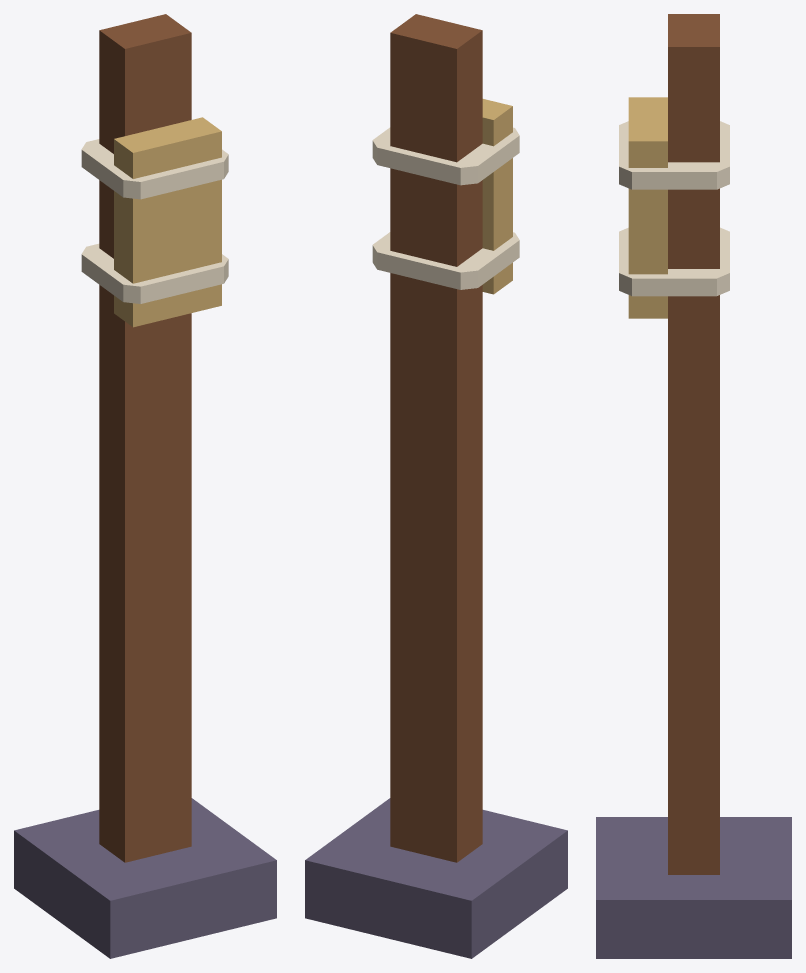
The model's file is prop_makiwara.glb.
3 renders of one model, left to right at view 1: azimuth 30°, elevation 25°; view 2: azimuth 150°, elevation 25°; view 3: azimuth 270°, elevation 25°, orthographic.
Parts seen in each view (by area): view 1: PROP-MAKIWARA; view 2: PROP-MAKIWARA; view 3: PROP-MAKIWARA.
Boxes of the visible parts, x1=… form: PROP-MAKIWARA: x1=14, y1=14, x2=276, y2=958; PROP-MAKIWARA: x1=305, y1=14, x2=567, y2=958; PROP-MAKIWARA: x1=596, y1=14, x2=791, y2=958.
Bounding box in the file's own units: 0.3 × 1.5 × 0.3.
